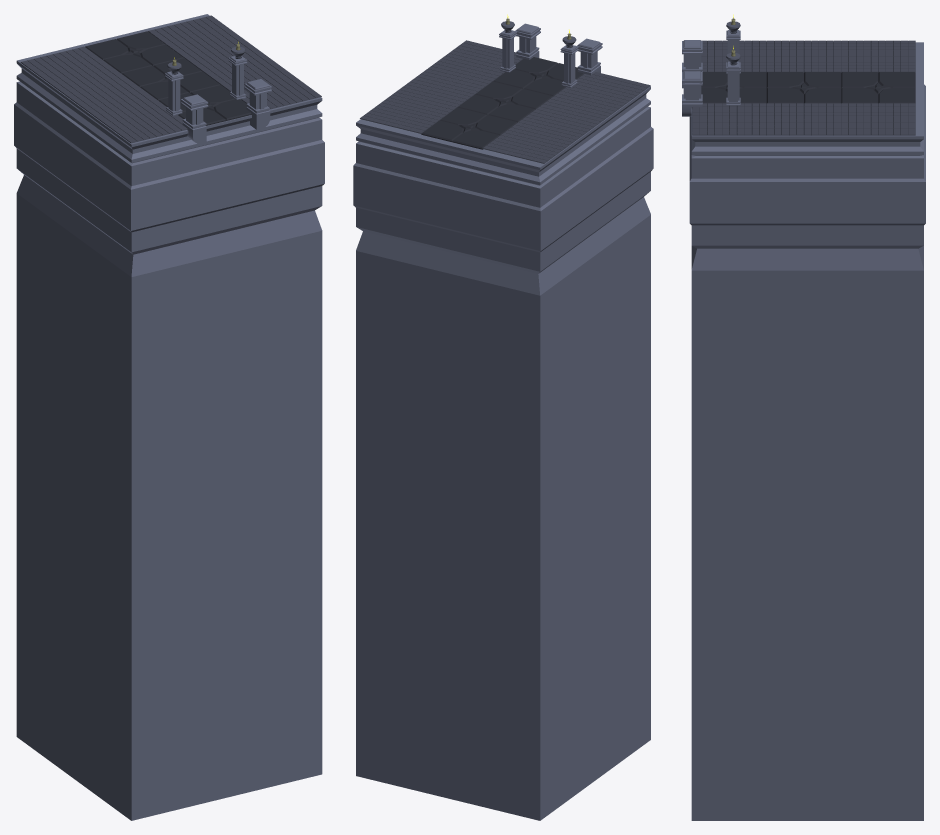
Rendered from gate.fbx.
3 views of the same model, side by side, from view 1: azimuth 30°, elevation 25°; view 2: azimuth 150°, elevation 25°; view 3: azimuth 270°, elevation 25° (orthographic). The views are drawn at different scales.
Visible parts, largest first — view 1: 02, Cube.117, Cube.120, Cube.118, Cube.119, Cube.111, Cube.115, Cube.116, Cube.109, Cube.110, Cube.136, Cube.135 (+2 smaller); view 2: 02, Cube.119, Cube.120, Cube.118, Cube.117, Cube.115, Cube.116, Cube.111, Cube.109, Cube.110, Cube.135, Cube.136; view 3: 02, Cube.115, Cube.118, Cube.117, Cube.116, Cube.109, Cube.120, Cube.119, Cube.110, Cube.111, Cube.136, Cube.135 (+1 smaller).
Part boxes in pixels (bbox=[...]): 02: bbox=[14, 14, 324, 820]; Cube.117: bbox=[57, 73, 157, 116]; Cube.120: bbox=[20, 46, 120, 89]; Cube.118: bbox=[148, 15, 247, 58]; Cube.119: bbox=[85, 31, 183, 73]; Cube.111: bbox=[94, 100, 187, 143]; Cube.115: bbox=[185, 42, 284, 84]; Cube.116: bbox=[122, 58, 220, 100]; Cube.109: bbox=[221, 69, 321, 109]; Cube.110: bbox=[158, 85, 251, 125]; Cube.136: bbox=[244, 79, 271, 129]; Cube.135: bbox=[180, 94, 208, 143]; 02: bbox=[353, 86, 653, 820]; Cube.119: bbox=[421, 107, 517, 149]; Cube.120: bbox=[483, 122, 579, 163]; Cube.118: bbox=[360, 92, 456, 133]; Cube.117: bbox=[519, 96, 614, 137]; Cube.115: bbox=[396, 66, 491, 107]; Cube.116: bbox=[457, 81, 552, 122]; Cube.111: bbox=[554, 72, 650, 111]; Cube.109: bbox=[431, 40, 522, 81]; Cube.110: bbox=[493, 57, 583, 96]; Cube.135: bbox=[577, 38, 602, 75]; Cube.136: bbox=[515, 23, 540, 59]; 02: bbox=[689, 42, 925, 820]; Cube.115: bbox=[766, 103, 841, 135]; Cube.118: bbox=[841, 103, 915, 135]; Cube.117: bbox=[766, 40, 841, 72]; Cube.116: bbox=[766, 72, 841, 103]; Cube.109: bbox=[692, 103, 766, 135]; Cube.120: bbox=[841, 40, 915, 72]; Cube.119: bbox=[841, 72, 915, 103]; Cube.110: bbox=[701, 72, 766, 103]; Cube.111: bbox=[701, 40, 766, 72]; Cube.136: bbox=[682, 71, 702, 116]; Cube.135: bbox=[682, 40, 702, 88].
Bounding box in the file's own units: 609 × 2208 × 655.
